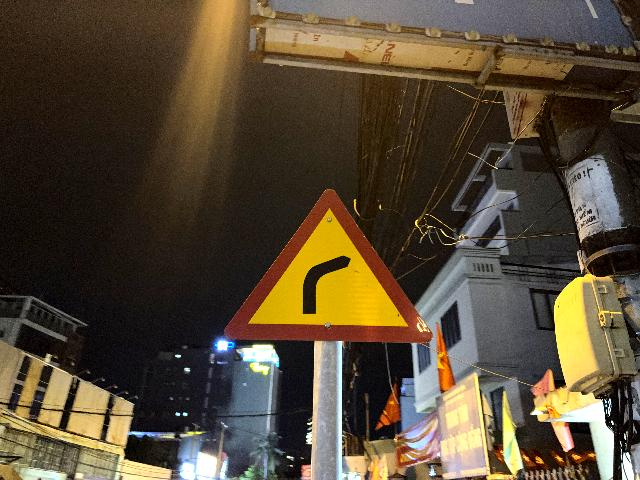cho-ngoat-nguy-hiem-ben-phai: (224, 187, 433, 343)
